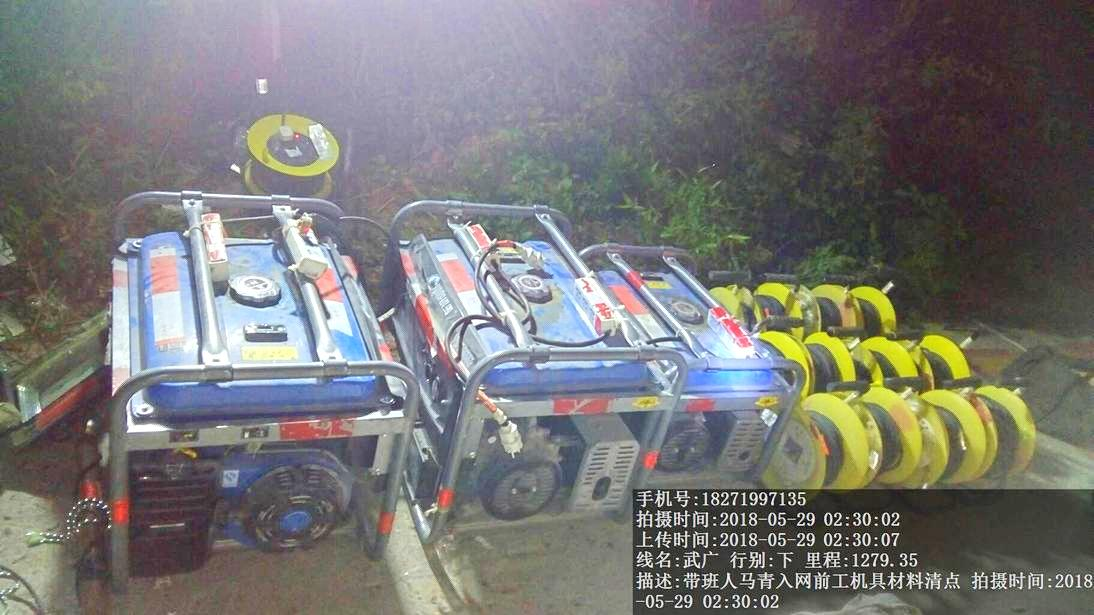DJ: (106, 188, 407, 580), (390, 192, 655, 517), (645, 245, 792, 474)
